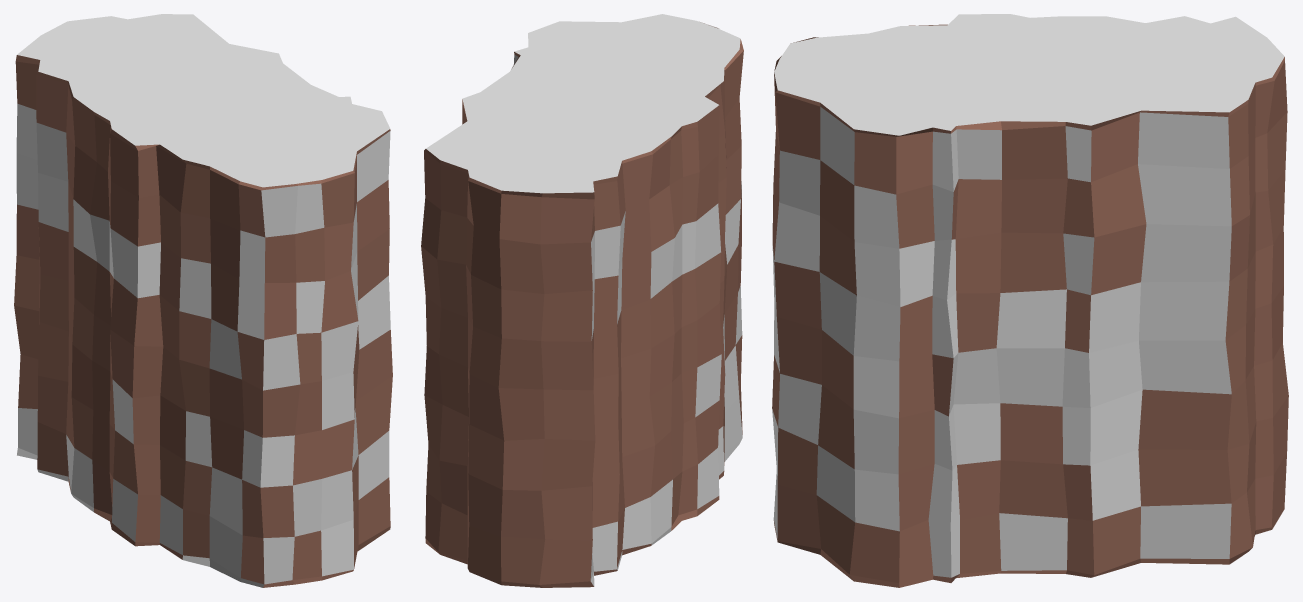
Rendered from Dirt.fbx.
3 renders of one model, left to right at view 1: azimuth 30°, elevation 25°; view 2: azimuth 150°, elevation 25°; view 3: azimuth 270°, elevation 25°, orthographic. The views are drawn at different scales.
Parts seen in each view (by area): view 1: Plan; view 2: Plan; view 3: Plan.
Part boxes in pixels (<box>): Plan: <box>14,14,392,587</box>; Plan: <box>421,14,743,587</box>; Plan: <box>772,14,1288,587</box>.
Size of the model in its own units: 998 by 1704 by 1764.
